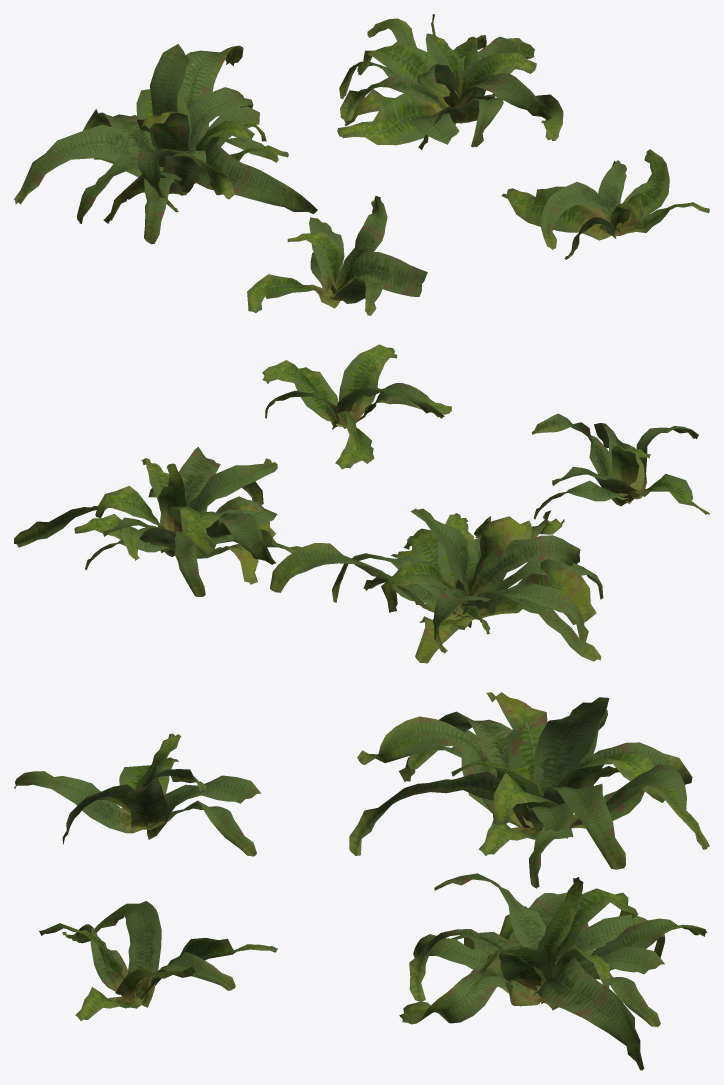
File: fern_02.glb
3 renders of one model, top to bottom at view 1: azimuth 30°, elevation 25°; view 2: azimuth 150°, elevation 25°; view 3: azimuth 270°, elevation 25°, orthographic. The views are drawn at different scales.
Visible parts, largest first — view 1: fern_02_b, fern_02_c, fern_02_d, fern_02_a; view 2: fern_02_b, fern_02_c, fern_02_d, fern_02_a; view 3: fern_02_b, fern_02_c, fern_02_a, fern_02_d.
Part boxes in pixels (x1,y1,x2,y2): fern_02_b: (14,44,317,244); fern_02_c: (337,14,563,149); fern_02_d: (501,149,709,259); fern_02_a: (247,196,427,315); fern_02_b: (270,508,603,663); fern_02_c: (14,447,300,596); fern_02_d: (262,344,451,469); fern_02_a: (531,413,709,519); fern_02_b: (349,692,709,888); fern_02_c: (399,873,707,1070); fern_02_a: (14,733,261,856); fern_02_d: (39,901,277,1020).
Size of the model in its own units: 1.97 by 0.4277 by 1.72.
Materials: 1 (1 with a texture image).
